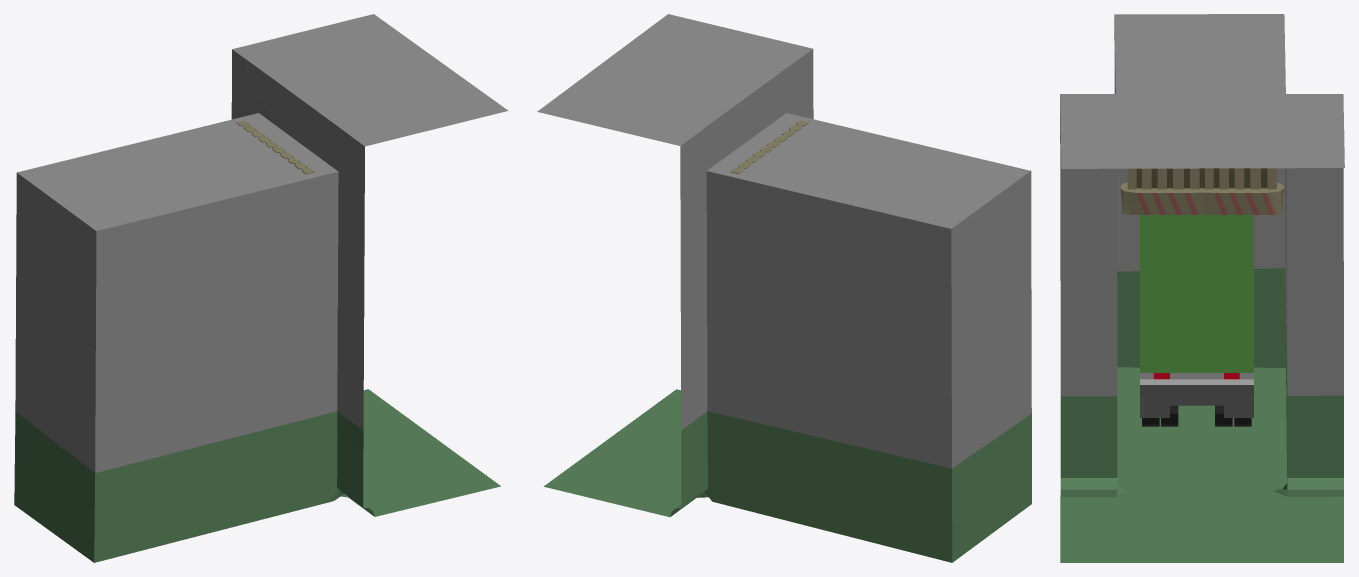
The model's file is mapa7.fbx.
3 renders of one model, left to right at view 1: azimuth 30°, elevation 25°; view 2: azimuth 150°, elevation 25°; view 3: azimuth 270°, elevation 25°, orthographic. The views are drawn at different scales.
Parts seen in each view (by area): view 1: pCube26; view 2: pCube26; view 3: pCube26.
Boxes of the visible parts, x1=… form: pCube26: x1=14, y1=14, x2=508, y2=562; pCube26: x1=537, y1=14, x2=1031, y2=562; pCube26: x1=1060, y1=14, x2=1344, y2=562.
Size of the model in its own units: 9.23 by 8.54 by 5.49.
